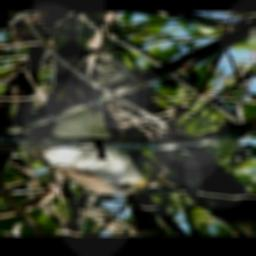Cuckoo: (27, 23, 171, 196)
